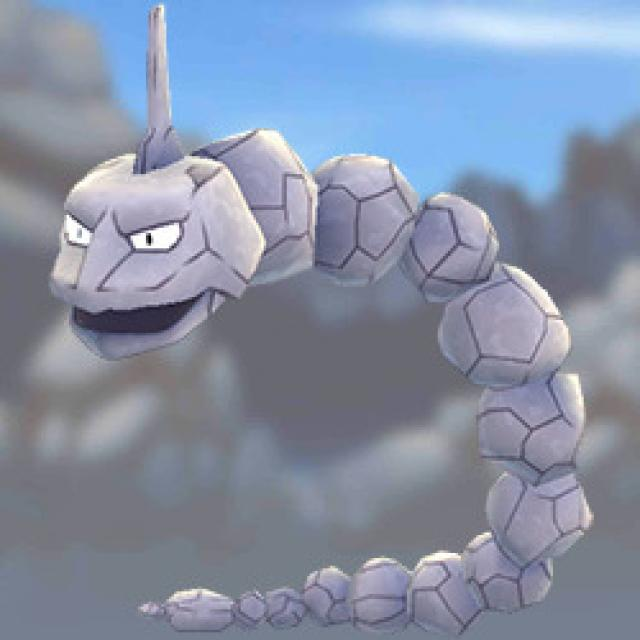Onix: (44, 128, 530, 379)
